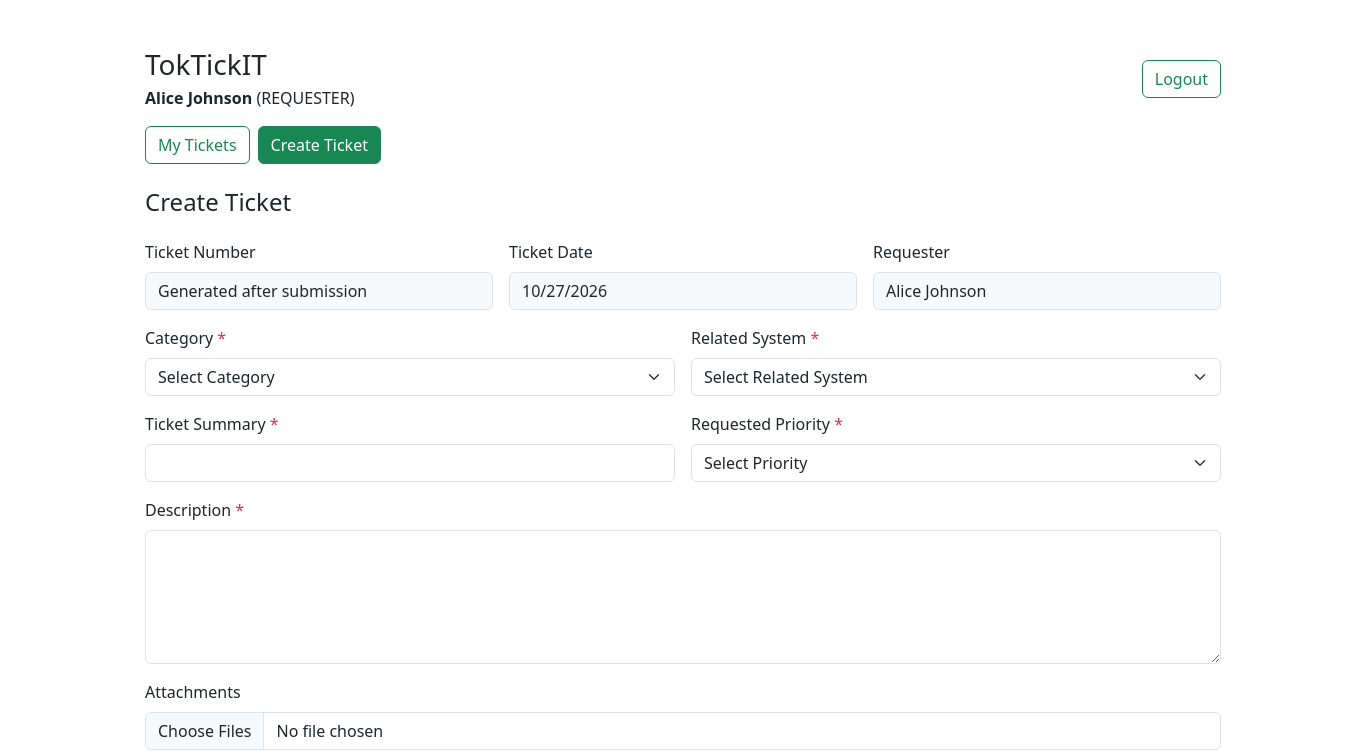
Test: My Tickets › shows the empty state when the Requester has no Tickets
The image size is (1366, 756).
Expected: the heading "Create Ticket" is shown, [145,185,291,218]
Click the button "My Tickets". click: (197, 145)
box: [145,126,250,164]
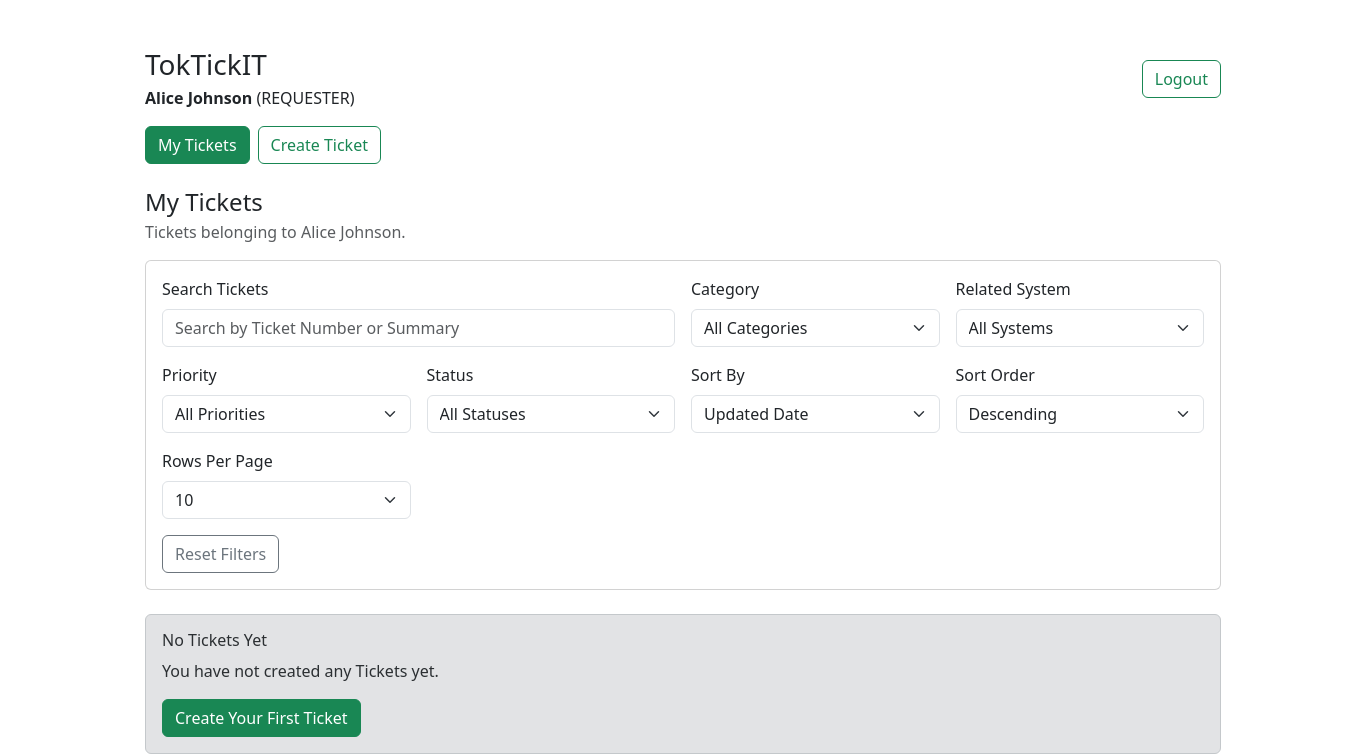
Expected: the heading "No Tickets Yet" is shown, [162,629,267,651]
Expected: the button "Create Your First Ticket" is shown, [162,699,361,737]
